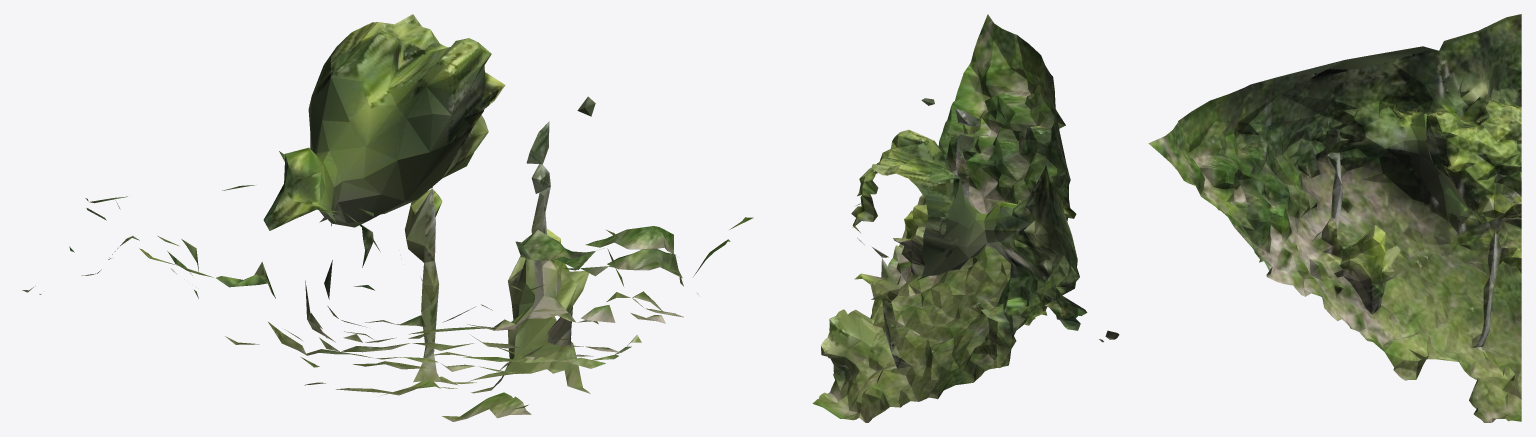
The picture shows the model from 3 angles, left to right: view 1: azimuth 30°, elevation 25°; view 2: azimuth 150°, elevation 25°; view 3: azimuth 270°, elevation 25°; orthographic projection. The views are drawn at different scales.
Bounding box in the file's own units: 26.11 × 21.94 × 25.84.
4 materials, 4 textured.
